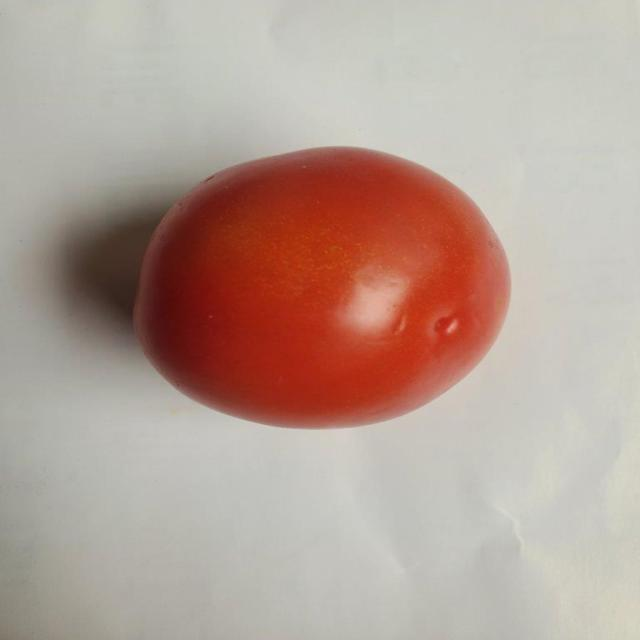Tomato: (125, 146, 517, 433)
